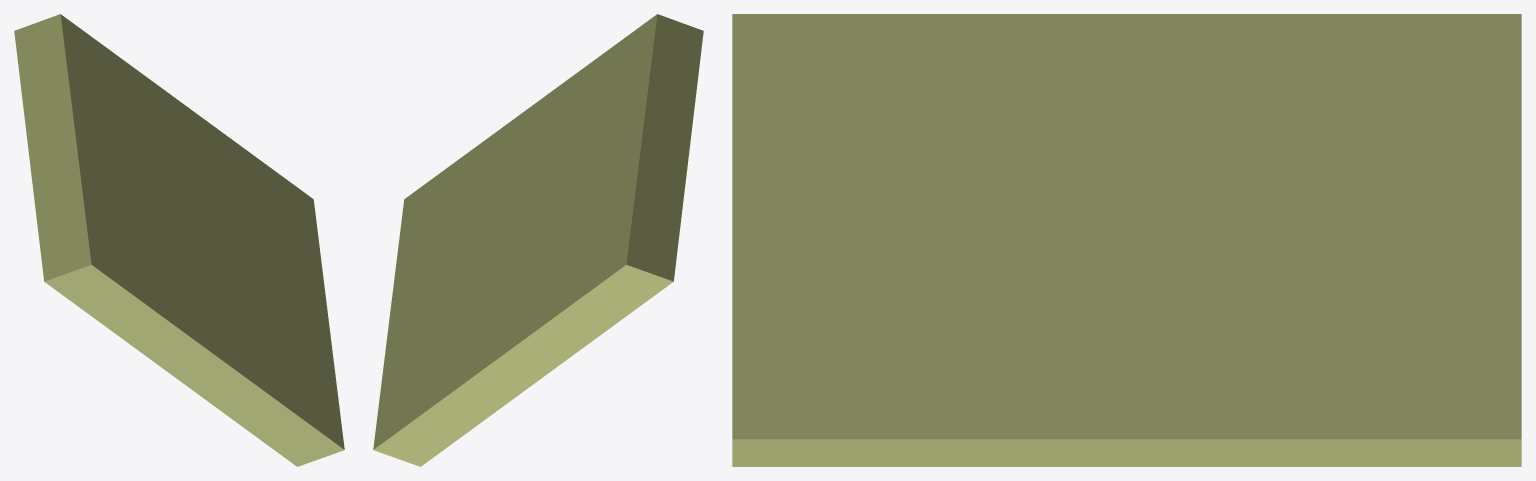
3 views of the same model, side by side, from view 1: azimuth 30°, elevation 25°; view 2: azimuth 150°, elevation 25°; view 3: azimuth 270°, elevation 25° (orthographic). The views are drawn at different scales.
Visible parts, largest first — view 1: 0_1_2_3_3_3_0_3_3_0_3_3; view 2: 0_1_2_3_3_3_0_3_3_0_3_3; view 3: 0_1_2_3_3_3_0_3_3_0_3_3.
Boxes of the visible parts, bbox=[...] form: 0_1_2_3_3_3_0_3_3_0_3_3: bbox=[14, 14, 344, 466]; 0_1_2_3_3_3_0_3_3_0_3_3: bbox=[373, 14, 703, 466]; 0_1_2_3_3_3_0_3_3_0_3_3: bbox=[732, 14, 1521, 466].
Bounding box in the file's own units: 1.59 × 5.17 × 9.
